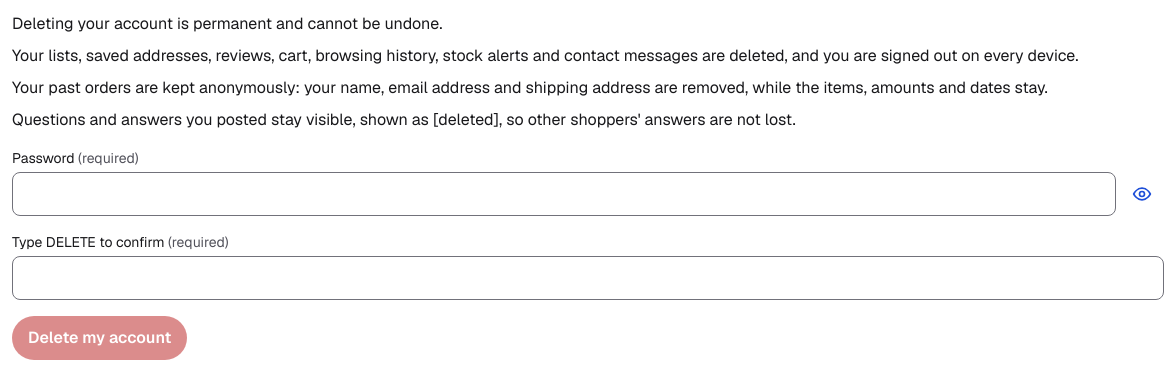
Test: DeleteAccountForm interactions (hydrated) › submit disabled until the text is exactly DELETE (case/whitespace sensitive)
Expected: the submit button is disabled, [12, 316, 187, 360]
Type "delete" into the field labelled "Type DELETE to confirm (required)" at x=588, y=278, box [12, 256, 1164, 300]
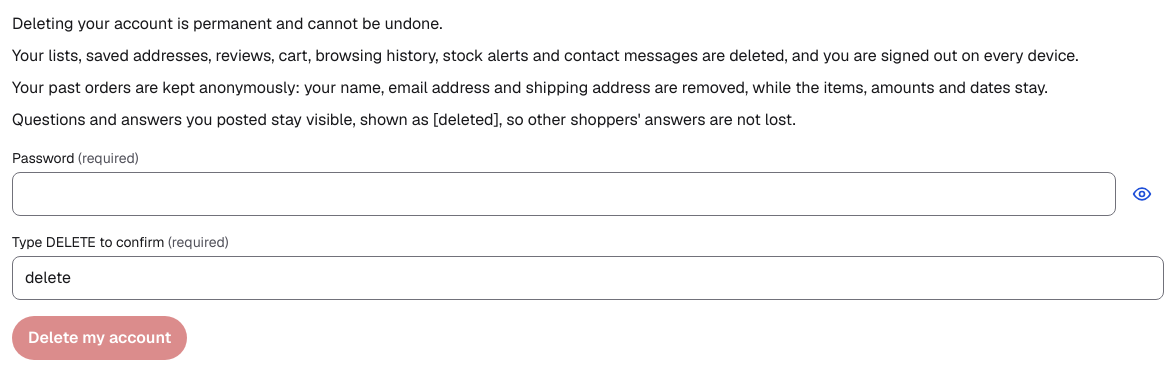
Expected: the submit button is disabled, [12, 316, 187, 360]
Replace the text in the field labelled "Type DELETE to confirm (required)" with "DELET" at x=588, y=278, box [12, 256, 1164, 300]
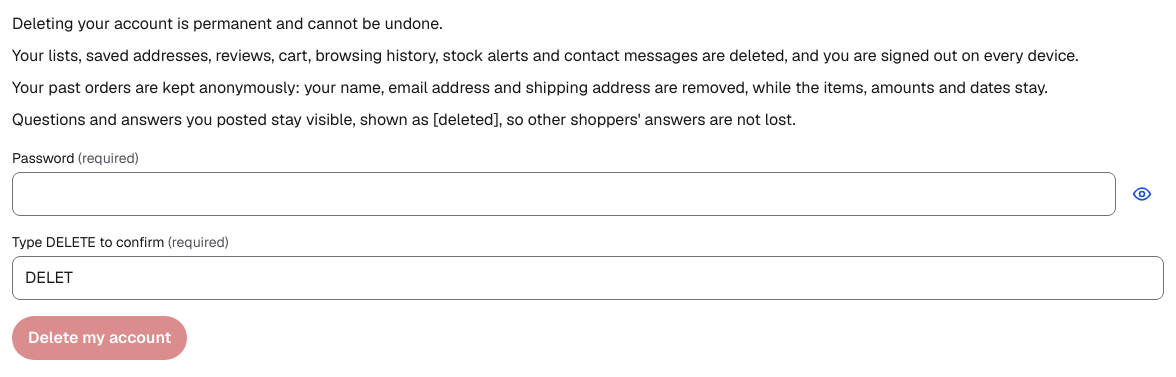
Expected: the submit button is disabled, [12, 316, 187, 360]
Replace the text in the field labelled "Type DELETE to confirm (required)" with " DELETE" at x=588, y=278, box [12, 256, 1164, 300]
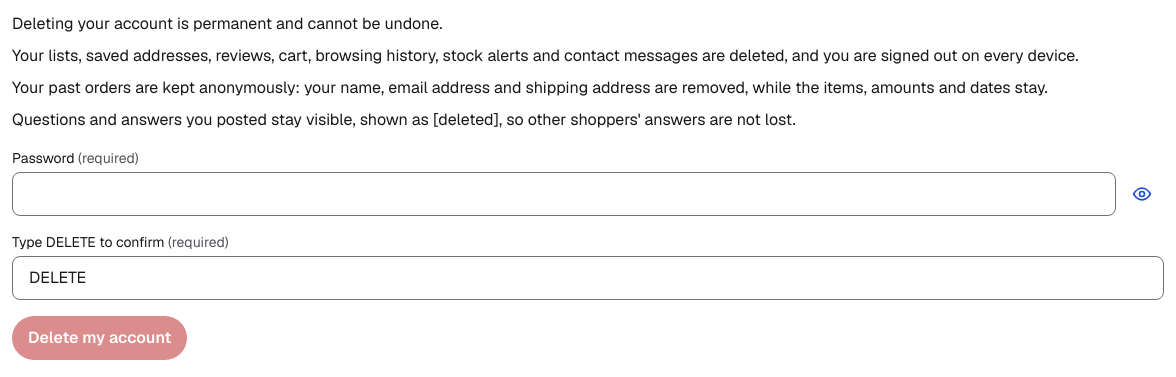
Expected: the submit button is disabled, [12, 316, 187, 360]
Replace the text in the field labelled "Type DELETE to confirm (required)" with "DELETe" at x=588, y=278, box [12, 256, 1164, 300]
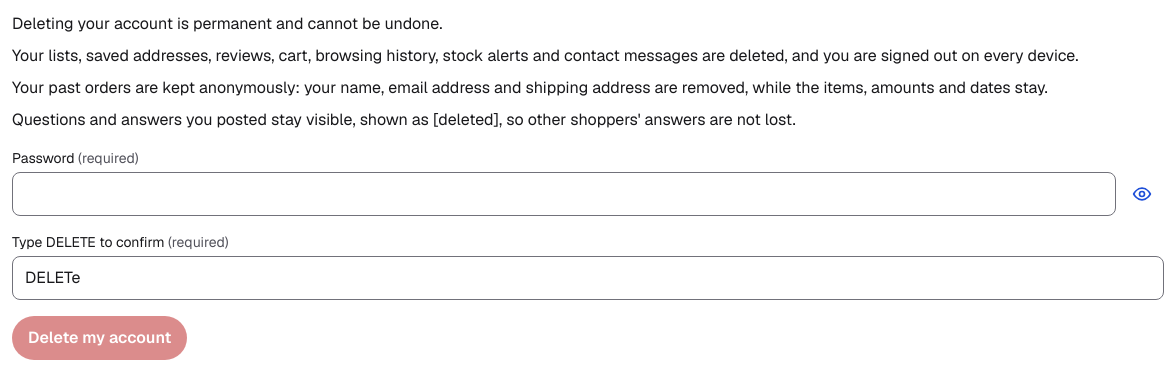
Expected: the submit button is disabled, [12, 316, 187, 360]
Replace the text in the field labelled "Type DELETE to confirm (required)" with "Delete" at x=588, y=278, box [12, 256, 1164, 300]
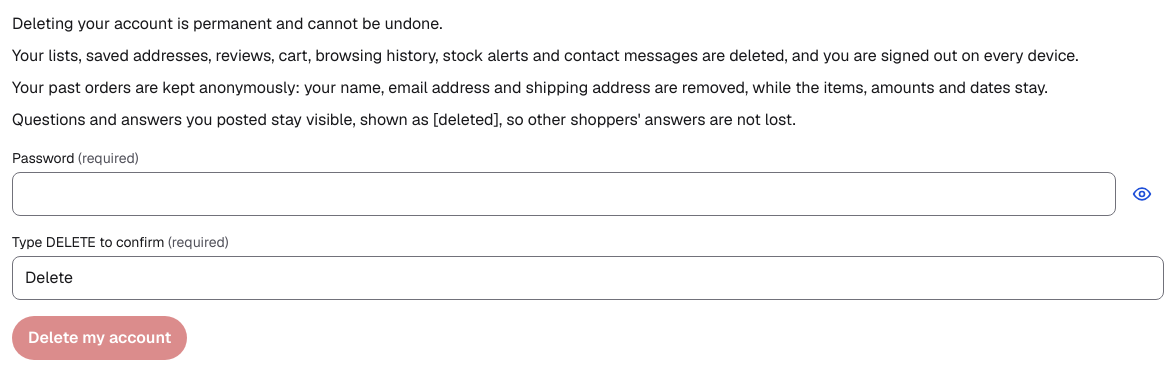
Expected: the submit button is disabled, [12, 316, 187, 360]
Replace the text in the field labelled "Type DELETE to confirm (required)" with "DELETE" at x=588, y=278, box [12, 256, 1164, 300]
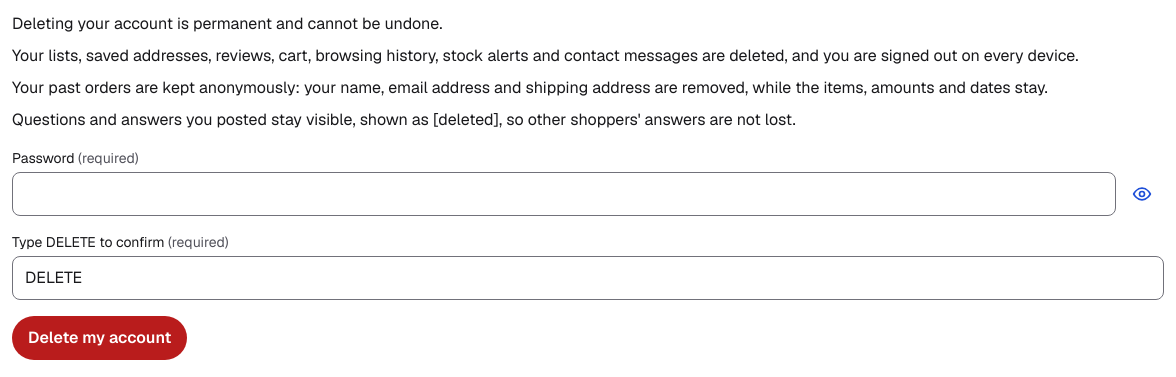
Expected: the submit button is enabled, [12, 316, 187, 360]
